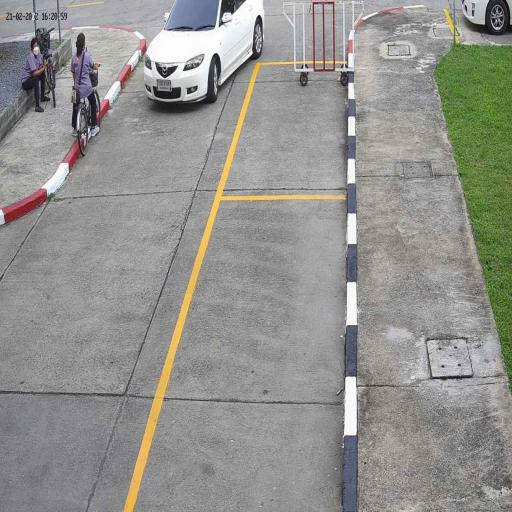car: (143, 0, 266, 105)
